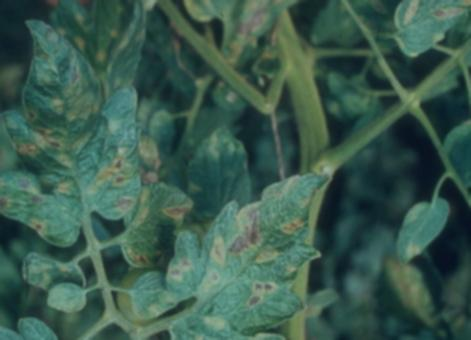Tomato mold leaf: (134, 170, 345, 340), (0, 13, 145, 247), (385, 0, 471, 58), (395, 188, 454, 270), (44, 276, 91, 314)
